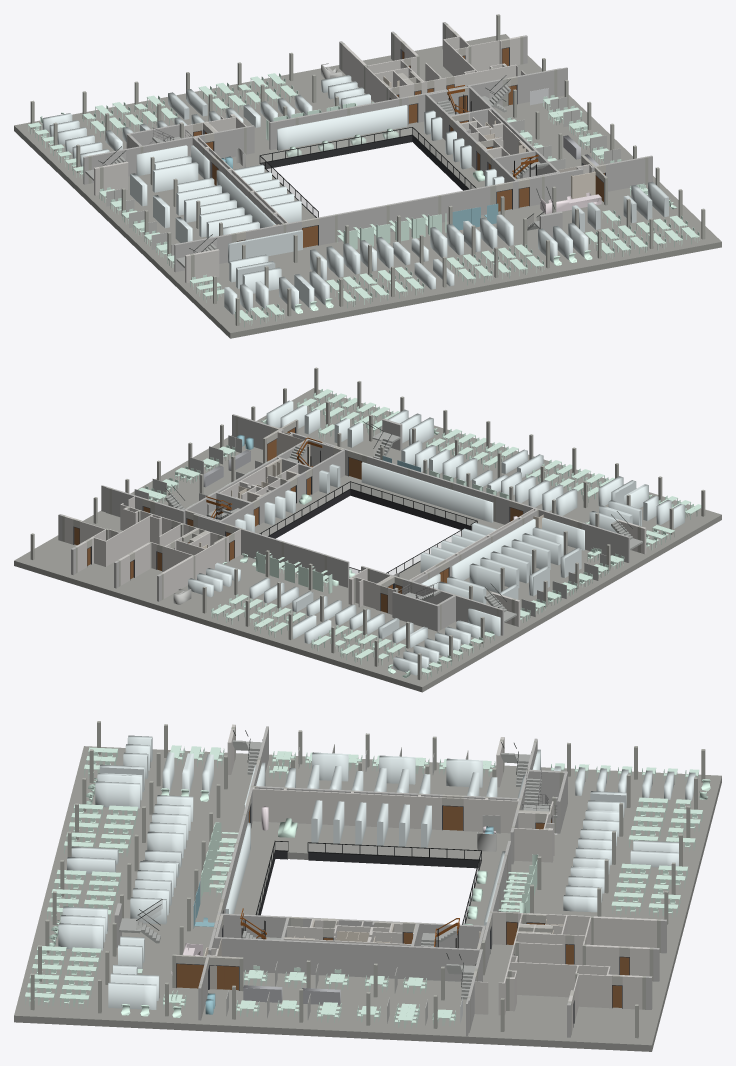
File: tib_og1.glb
3 renders of one model, top to bottom at view 1: azimuth 30°, elevation 25°; view 2: azimuth 150°, elevation 25°; view 3: azimuth 270°, elevation 25°, orthographic. The views are drawn at different scales.
Visible parts, largest first — view 1: tib_og1__TIB Farbe 165-165-162, tib_og1__TIB Moebel carrel, tib_og1__TIB clear neutral guard glass 2026-10-24; view 2: tib_og1__TIB Farbe 165-165-162, tib_og1__TIB Moebel carrel, tib_og1__TIB clear neutral guard glass 2026-10-24; view 3: tib_og1__TIB Farbe 165-165-162, tib_og1__TIB Moebel carrel, tib_og1__TIB clear neutral guard glass 2026-10-24.
Part boxes in pixels (bbox=[...]): tib_og1__TIB Farbe 165-165-162: bbox=[14, 14, 721, 338]; tib_og1__TIB Moebel carrel: bbox=[40, 63, 677, 314]; tib_og1__TIB clear neutral guard glass 2026-10-24: bbox=[103, 76, 543, 253]; tib_og1__TIB Farbe 165-165-162: bbox=[14, 367, 721, 692]; tib_og1__TIB Moebel carrel: bbox=[134, 400, 684, 678]; tib_og1__TIB clear neutral guard glass 2026-10-24: bbox=[176, 433, 476, 574]; tib_og1__TIB Farbe 165-165-162: bbox=[14, 721, 721, 1051]; tib_og1__TIB Moebel carrel: bbox=[49, 735, 710, 1025]; tib_og1__TIB clear neutral guard glass 2026-10-24: bbox=[136, 750, 518, 991].
Bounding box in the file's own units: 58.7 × 4.94 × 58.7.
3 materials, 3 textured.
